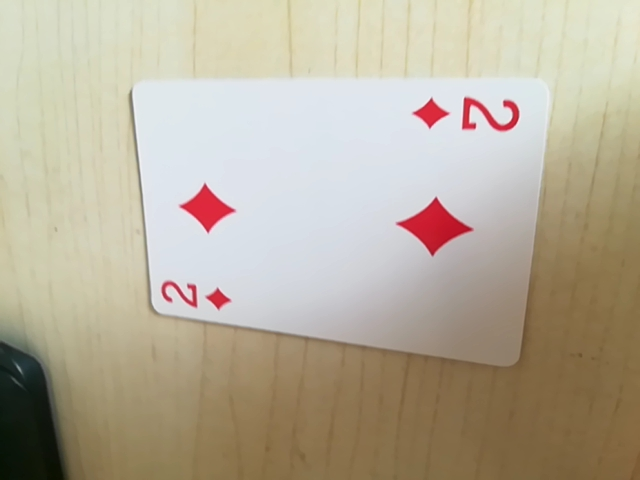fk 2: (408, 89, 529, 141), (158, 270, 237, 319)
